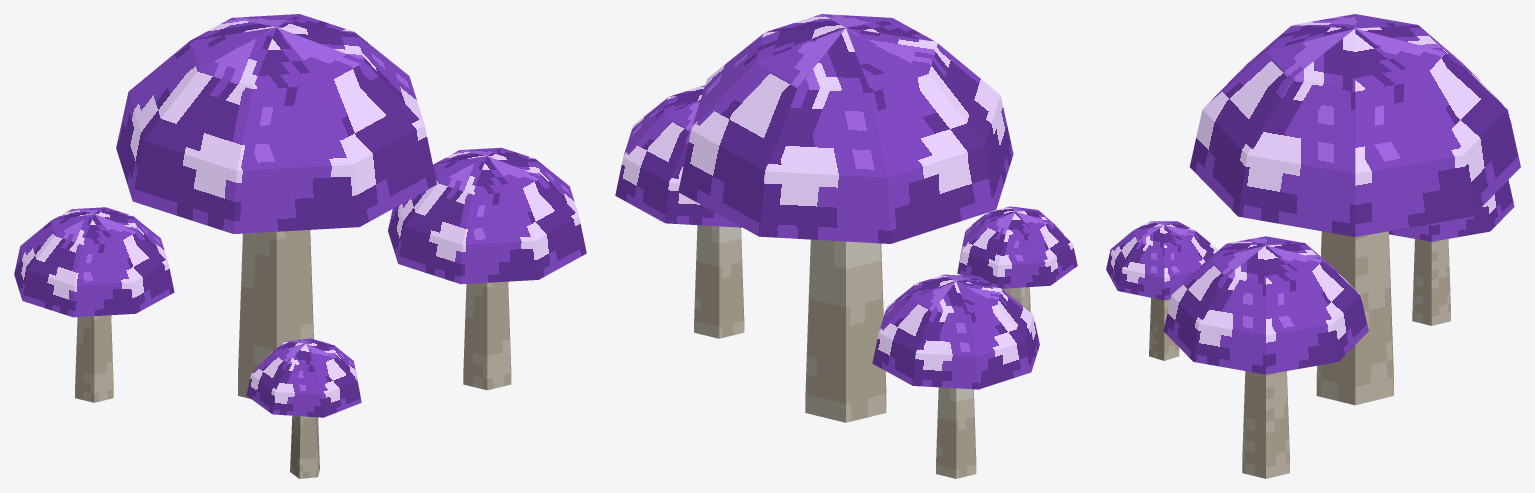
File: mushroom.glb
3 renders of one model, left to right at view 1: azimuth 30°, elevation 25°; view 2: azimuth 150°, elevation 25°; view 3: azimuth 270°, elevation 25°, orthographic. The views are drawn at different scales.
Parts seen in each view (by area): view 1: mushroom; view 2: mushroom; view 3: mushroom.
Boxes of the visible parts, x1,y1,x2,y2 form: mushroom: (14,14,586,478); mushroom: (615,14,1077,478); mushroom: (1106,14,1520,478).
Bounding box in the file's own units: 1.1 × 0.8 × 0.8403.
Materials: 2 (2 with a texture image).
